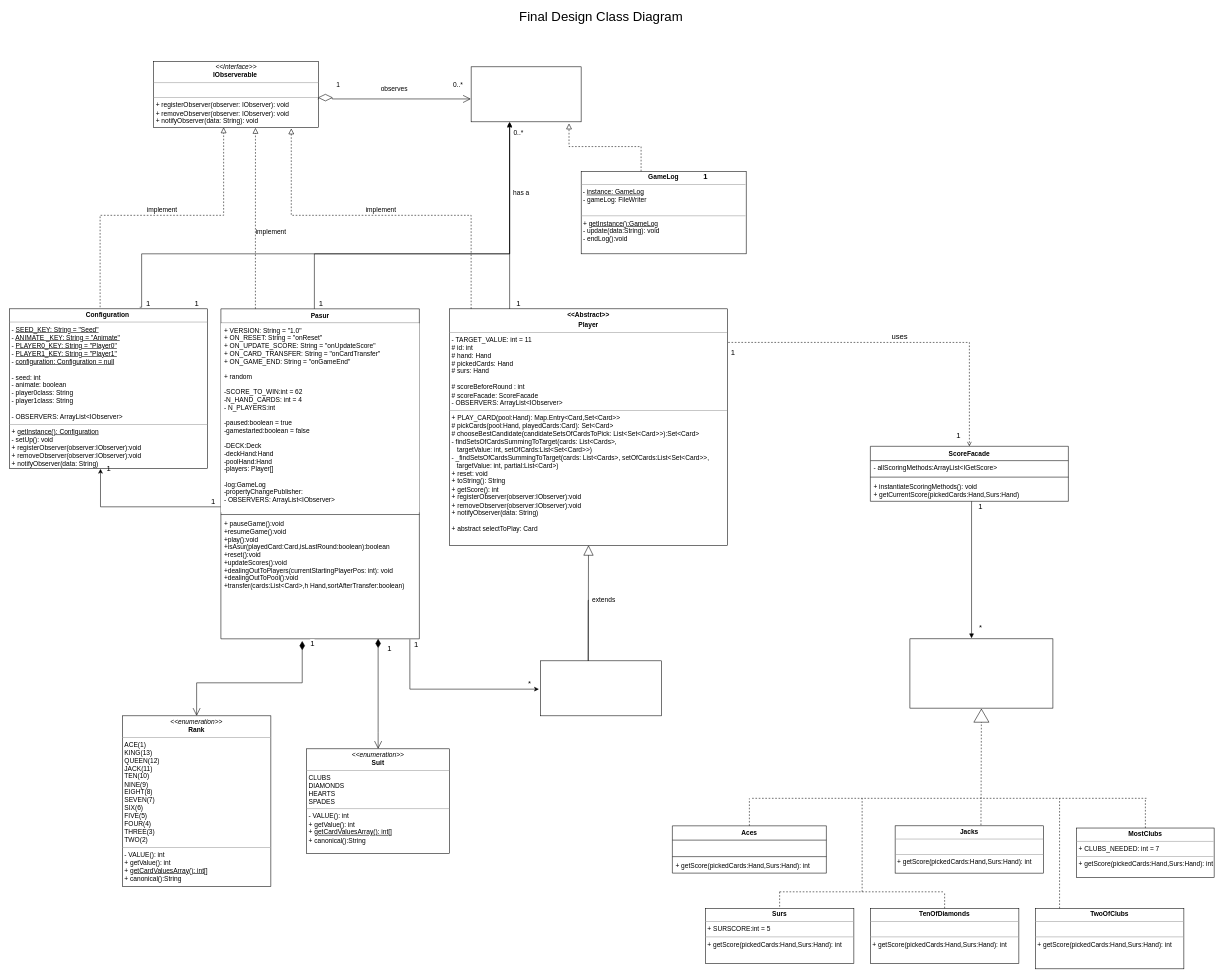
Some shapes in this 1224 by 978 pixel diagram are drawn without their labels. The shapes that lost their labels are listed below. From the top down, each one's centre as x and y in pixels, then its label:
At [526,94]: "<<Interface>> IObserver + update(data: String): void".
At [600,688]: "RandomPlayer + selectToPlay(): Card".
At [981,673]: "<<Interface>> IGetScore + getScore(pickedCards:Hand,Surs:Hand): int".
